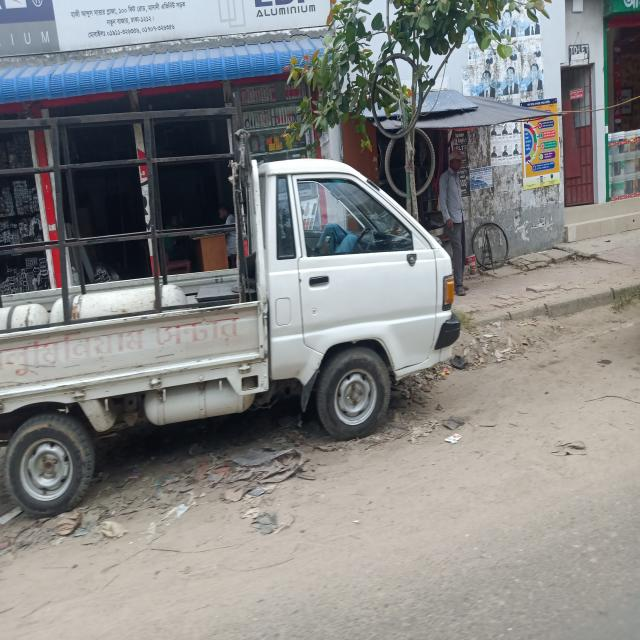truck: (0, 94, 461, 519)
